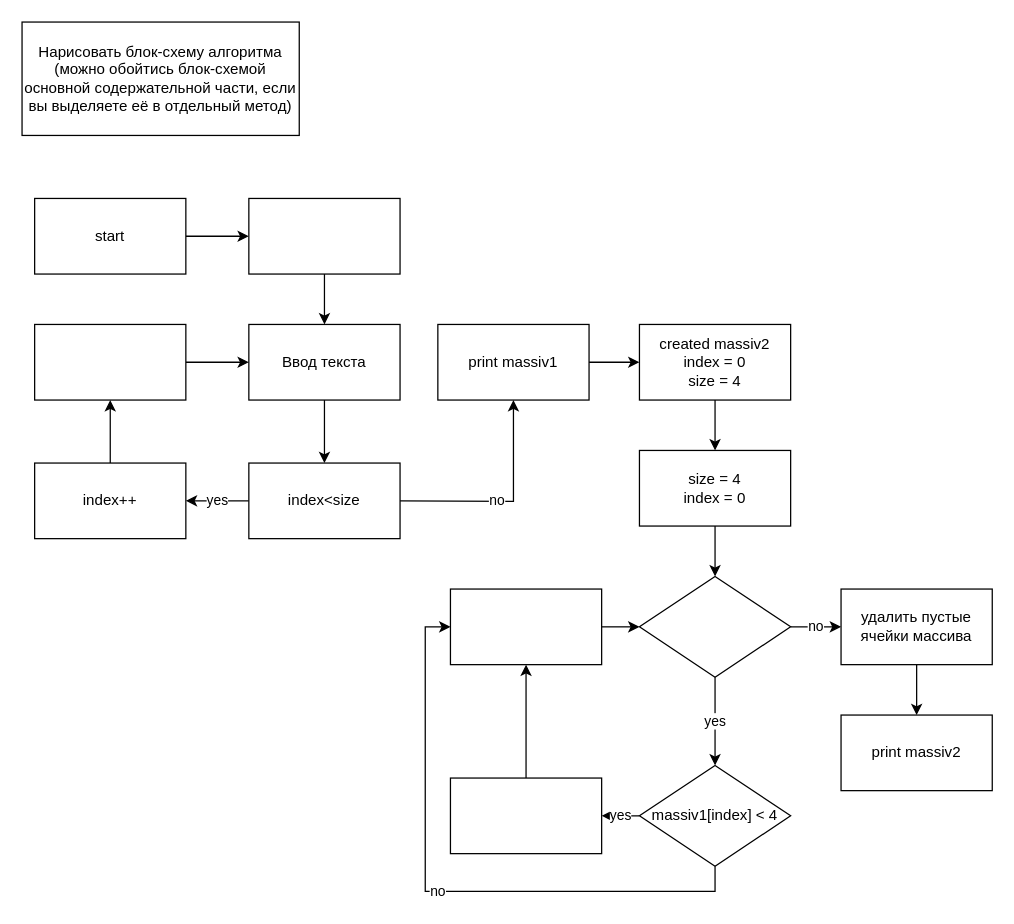
Image size: 1014x924. Some labels were removed from this diagram. Here are the shapes that lost their labels. From the top down, the centre of each, then its label:
At [324,235]: "created massiv1 index = 0 size = 4".
At [109,361]: "добавить текст в massiv1".
At [525,626]: "index ++".
At [714,626]: "index < size".
At [525,815]: "добавить massiv2".
